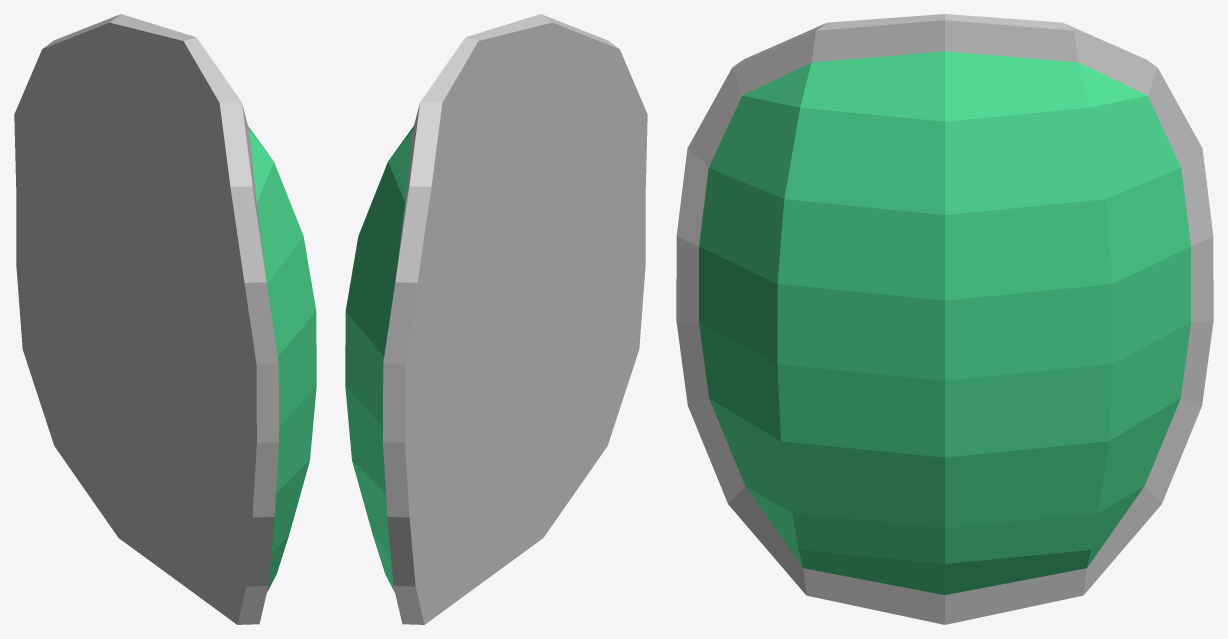
Rendered from iluminator.fbx.
The picture shows the model from 3 angles, left to right: view 1: azimuth 30°, elevation 25°; view 2: azimuth 150°, elevation 25°; view 3: azimuth 270°, elevation 25°; orthographic projection. The views are drawn at different scales.
Visible parts, largest first — view 1: Circle.003; view 2: Circle.003; view 3: Circle.003.
Part boxes in pixels (x1,y1,x2,y2): Circle.003: (14,14,316,624); Circle.003: (345,14,647,624); Circle.003: (676,14,1213,624).
Size of the model in its own units: 69.61 by 263 by 215.
